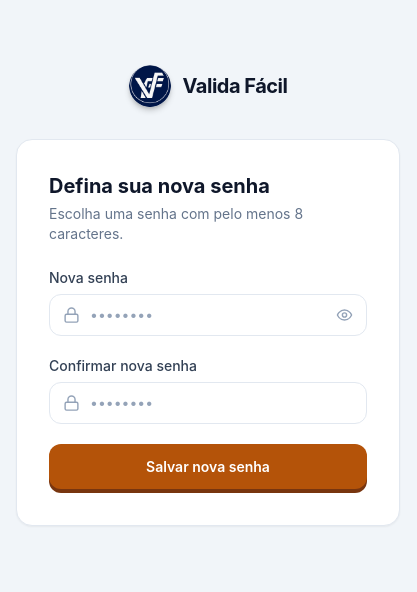
Test: ResetPasswordPage › bloqueia quando as senhas não coincidem
This screenshot has width=417, height=592.
Expected: the heading "Defina sua nova senha" is shown, x1=49 y1=174 x2=270 y2=198
Type "senhaNova123" into the 1st password field with placeholder "••••••••" at (208, 314), box x1=49 y1=294 x2=367 y2=336
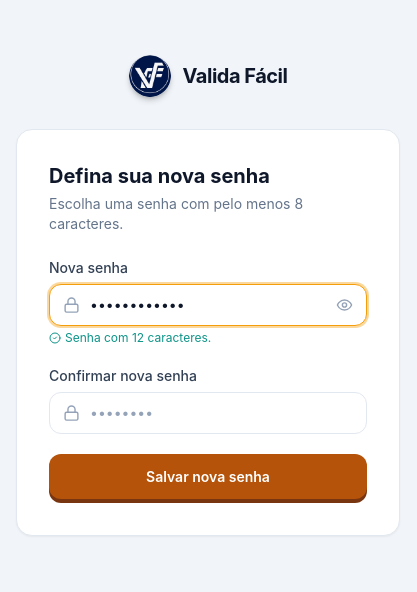
Type "outraSenha456" into the password field with placeholder "••••••••" at (208, 412), box x1=49 y1=392 x2=367 y2=434
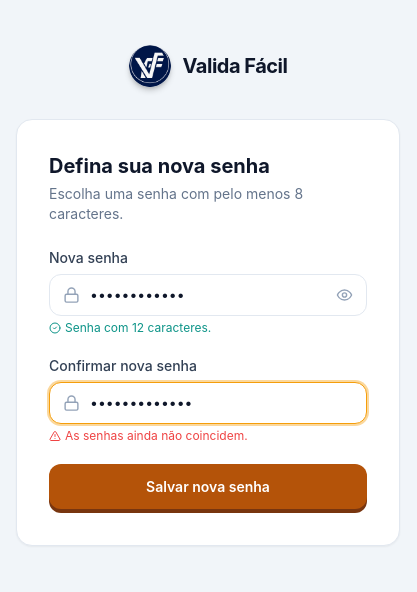
Click the button "Salvar nova senha" at (208, 486), box x1=49 y1=464 x2=367 y2=508
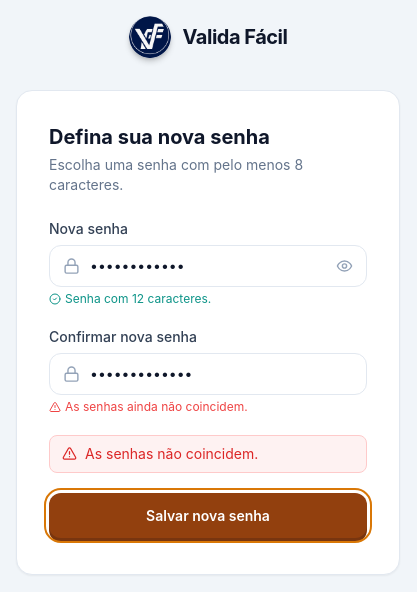
Expected: the text "As senhas não coincidem." is shown, x1=49 y1=434 x2=367 y2=472
